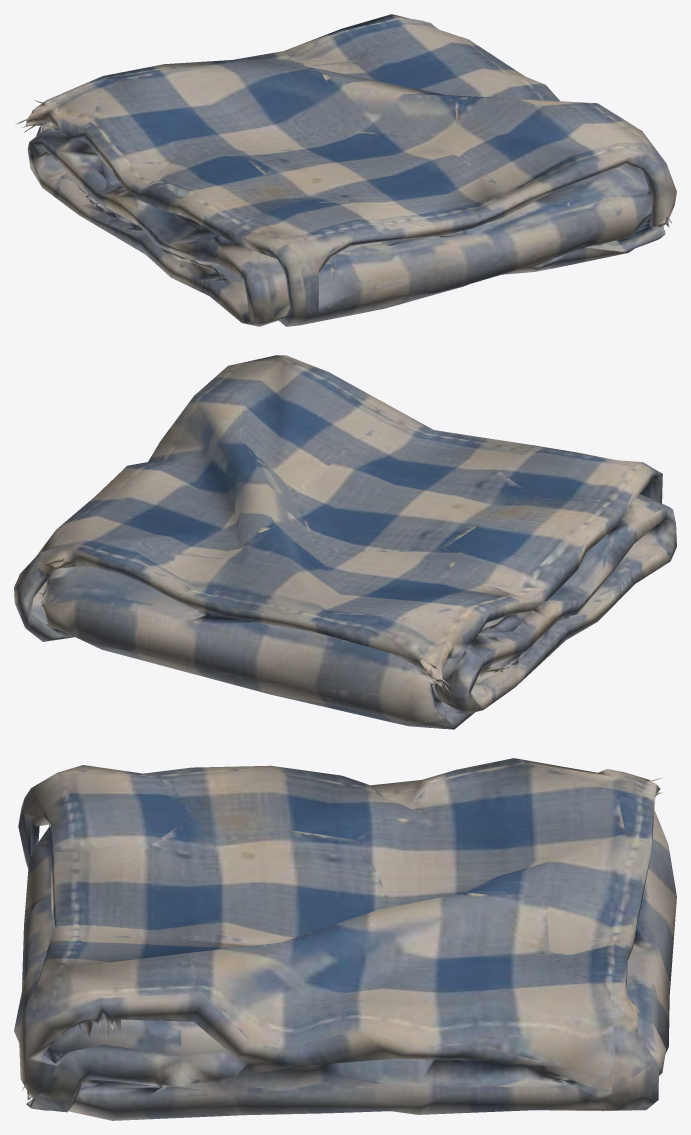
File: d_rag.glb
3 renders of one model, top to bottom at view 1: azimuth 30°, elevation 25°; view 2: azimuth 150°, elevation 25°; view 3: azimuth 270°, elevation 25°, orthographic. The views are drawn at different scales.
Bounding box in the file's own units: 1.86 × 0.4657 × 1.87.
Materials: 1 (1 with a texture image).
